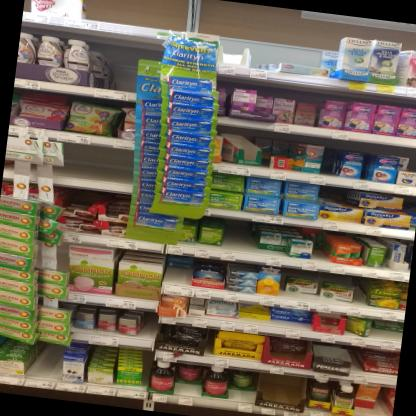empty_space: (91, 0, 169, 33), (219, 12, 253, 70), (95, 149, 130, 188), (250, 19, 272, 72), (223, 221, 254, 255), (60, 144, 87, 183), (32, 347, 60, 382)
